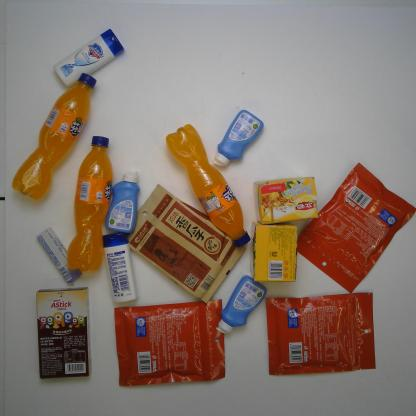Candy: (36, 228, 84, 285)
Dessert: (35, 286, 92, 379)
Dried Food: (127, 183, 246, 306)
Dried Fruit: (295, 160, 416, 297), (111, 297, 228, 385), (264, 289, 378, 376)
Drink: (9, 71, 96, 200), (164, 123, 252, 250), (65, 134, 114, 274)
Instant Drink: (255, 175, 321, 225), (249, 222, 298, 284)
Personal Hygiene: (52, 27, 125, 89), (212, 107, 265, 170), (216, 273, 269, 335), (101, 233, 139, 304), (104, 172, 142, 232)
